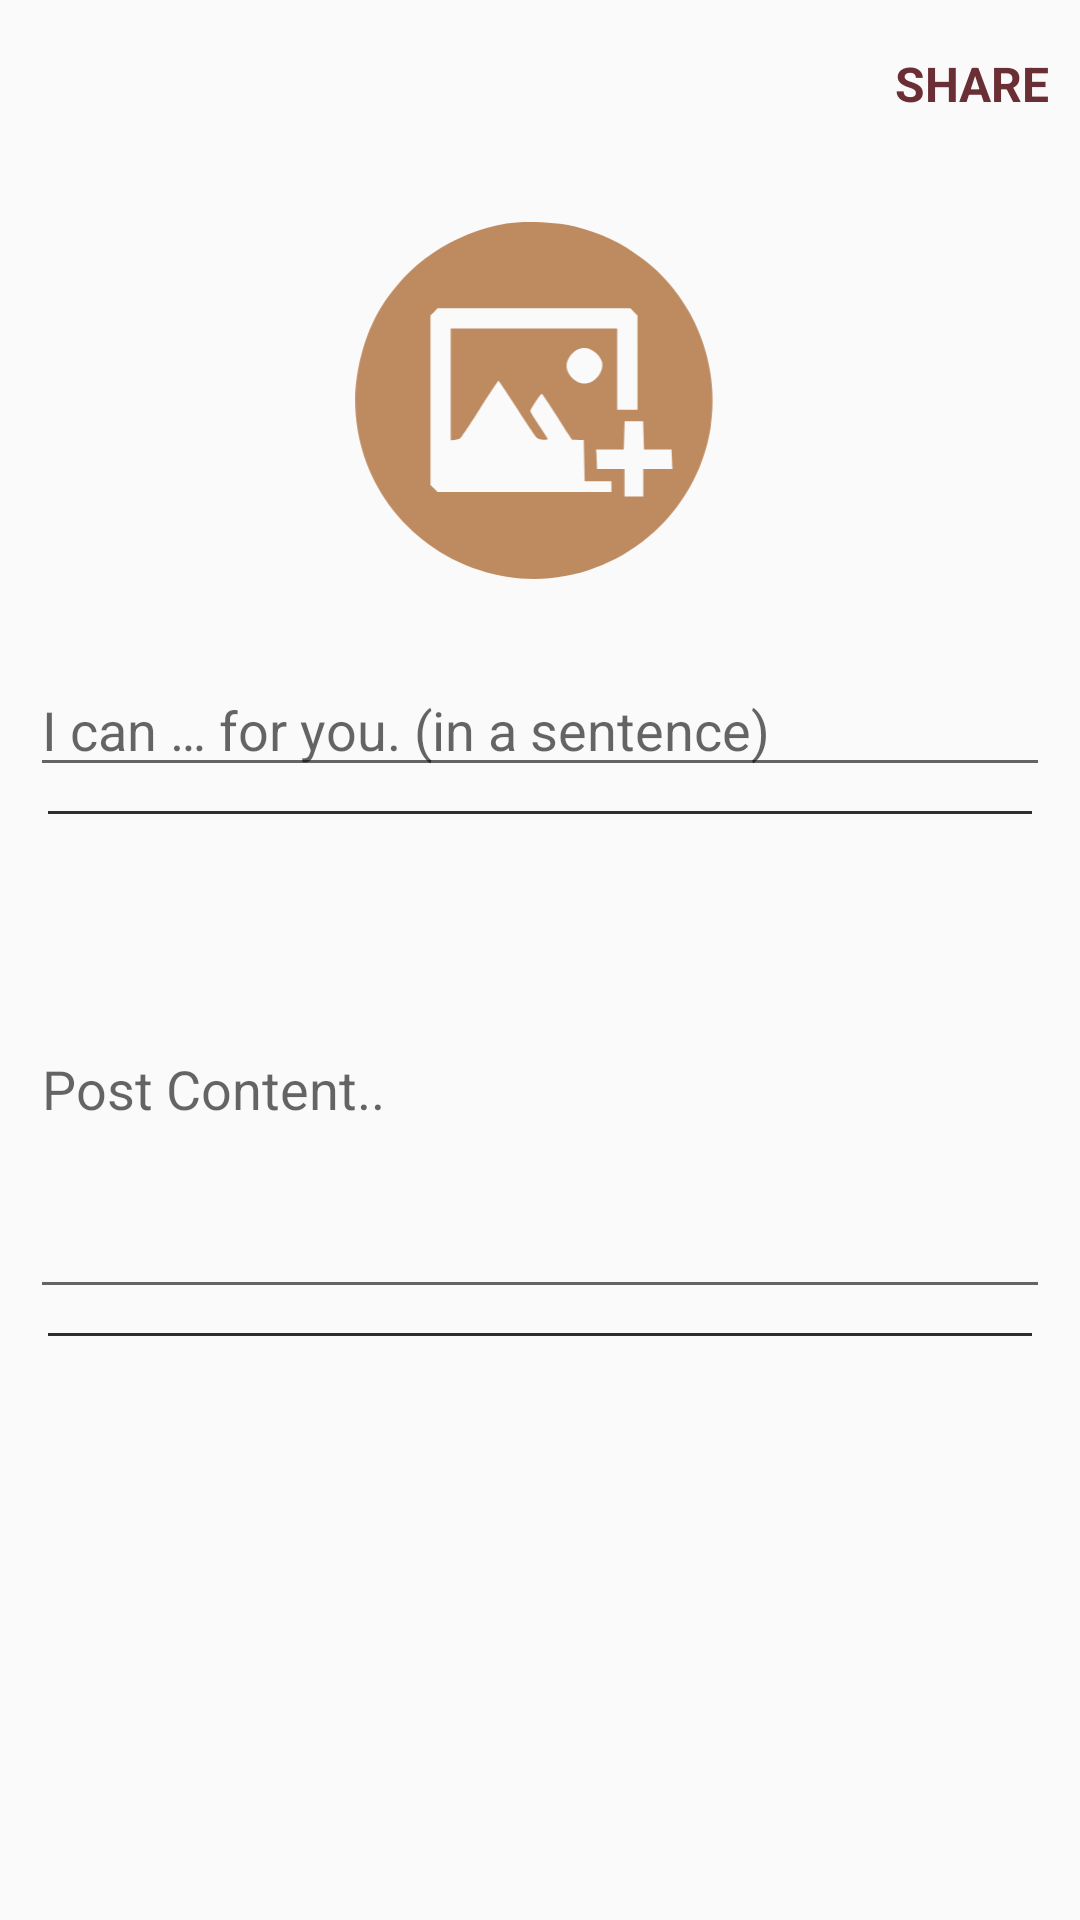

Screen size 1080px×1920px. Icon name, then its box in pixels as [left=x1, top=y1, right=x2, bottom=y2]:
add: [left=355, top=222, right=713, bottom=579]
